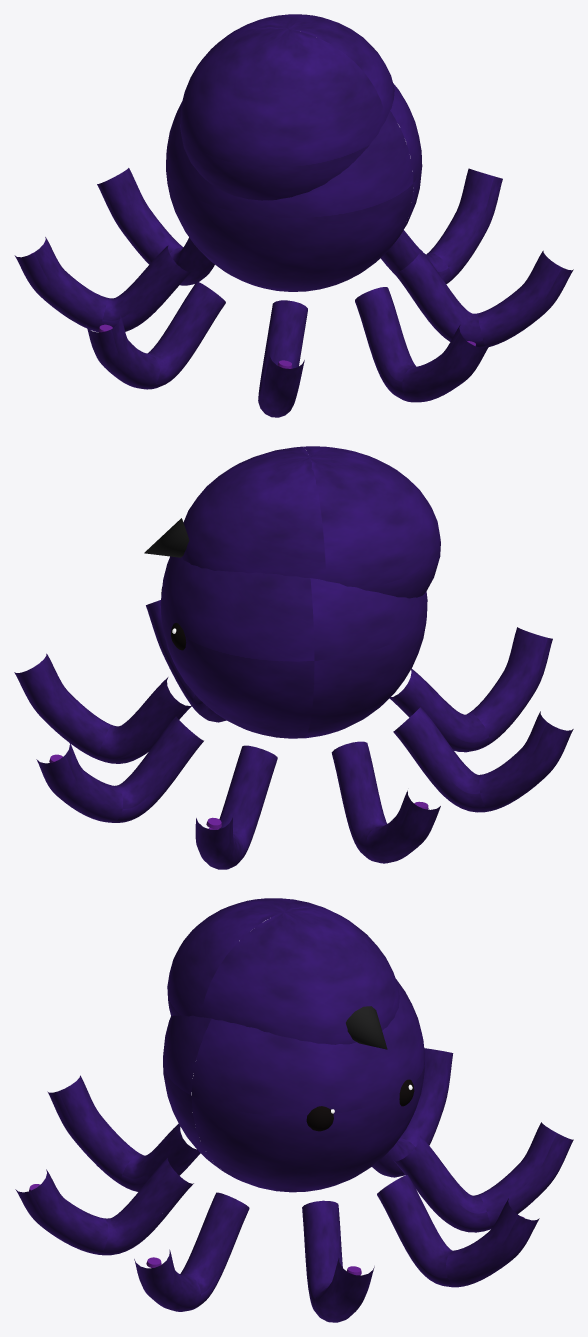
File: kraken_profundo.glb
The picture shows the model from 3 angles, top to bottom: view 1: azimuth 30°, elevation 25°; view 2: azimuth 150°, elevation 25°; view 3: azimuth 270°, elevation 25°; orthographic projection. The views are drawn at different scales.
Visible parts, largest first — view 1: head, tentacle4, tentacle8, tentacle5, tentacle7, tentacle3, tentacle1, tentacle6; view 2: head, tentacle7, tentacle3, tentacle6, tentacle2, tentacle8, tentacle1, tentacle4; view 3: head, tentacle1, tentacle2, tentacle5, tentacle6, tentacle4, tentacle3, tentacle8, kraken.
Part boxes in pixels (x1,y1,x2,y2): head: [166, 14, 422, 291]; tentacle4: [394, 250, 573, 347]; tentacle8: [14, 237, 192, 332]; tentacle5: [355, 287, 489, 402]; tentacle7: [86, 281, 225, 389]; tentacle3: [380, 168, 502, 283]; tentacle1: [97, 168, 214, 285]; tentacle6: [258, 300, 307, 417]; head: [144, 446, 440, 738]; tentacle7: [393, 707, 573, 812]; tentacle3: [14, 653, 193, 763]; tentacle6: [389, 627, 552, 752]; tentacle2: [36, 716, 203, 822]; tentacle8: [331, 741, 440, 863]; tentacle1: [195, 745, 277, 869]; tentacle4: [146, 600, 226, 722]; head: [163, 898, 424, 1192]; tentacle1: [393, 1122, 573, 1232]; tentacle2: [377, 1175, 539, 1287]; tentacle5: [15, 1158, 193, 1255]; tentacle6: [47, 1075, 200, 1191]; tentacle4: [134, 1192, 249, 1311]; tentacle3: [302, 1200, 374, 1322]; tentacle8: [372, 1048, 453, 1177]; kraken: [306, 1079, 414, 1131].
Bounding box in the file's own units: 3.36 × 2.16 × 3.36.
11 materials, 1 textured.
